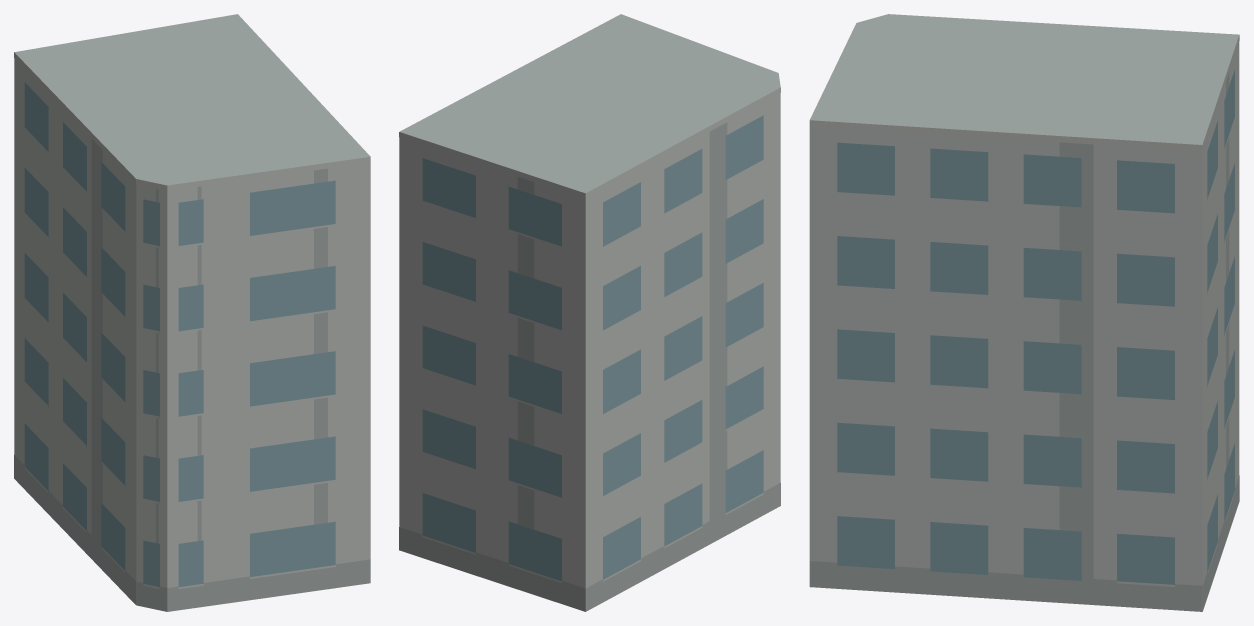
File: survey-upis-32799464.glb
The picture shows the model from 3 angles, left to right: view 1: azimuth 30°, elevation 25°; view 2: azimuth 150°, elevation 25°; view 3: azimuth 270°, elevation 25°; orthographic projection. The views are drawn at different scales.
Parts seen in each view (by area): view 1: survey-upis-32799464.tmp; view 2: survey-upis-32799464.tmp; view 3: survey-upis-32799464.tmp.
Part boxes in pixels (bbox=[...]): survey-upis-32799464.tmp: bbox=[14, 14, 370, 611]; survey-upis-32799464.tmp: bbox=[399, 14, 780, 611]; survey-upis-32799464.tmp: bbox=[809, 14, 1239, 611].
Size of the model in its own units: 10.84 by 18 by 15.03.
